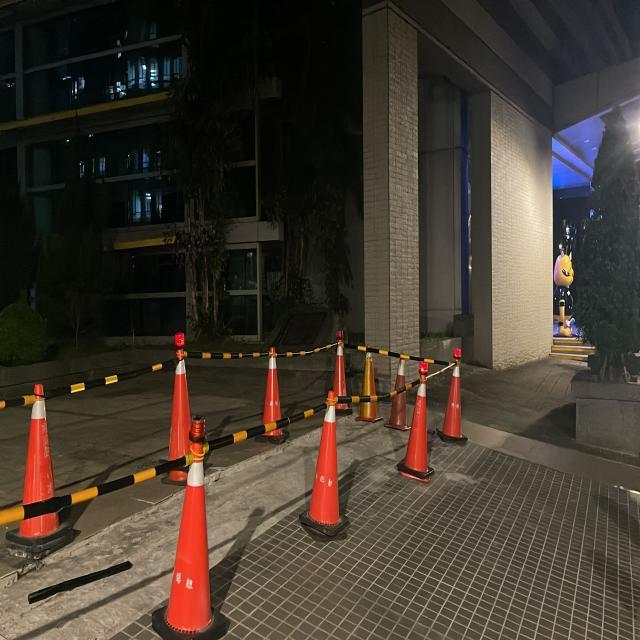traffic cone: (151, 420, 230, 640), (5, 383, 76, 559), (299, 388, 351, 540), (396, 362, 435, 483), (160, 357, 194, 486), (435, 349, 468, 445), (259, 346, 289, 443), (354, 353, 384, 424), (384, 355, 412, 431), (329, 331, 353, 416)
